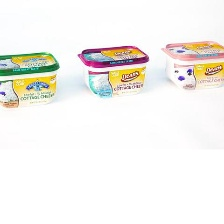plastic_box: (69, 38, 153, 102), (0, 43, 63, 113), (156, 34, 224, 95)
